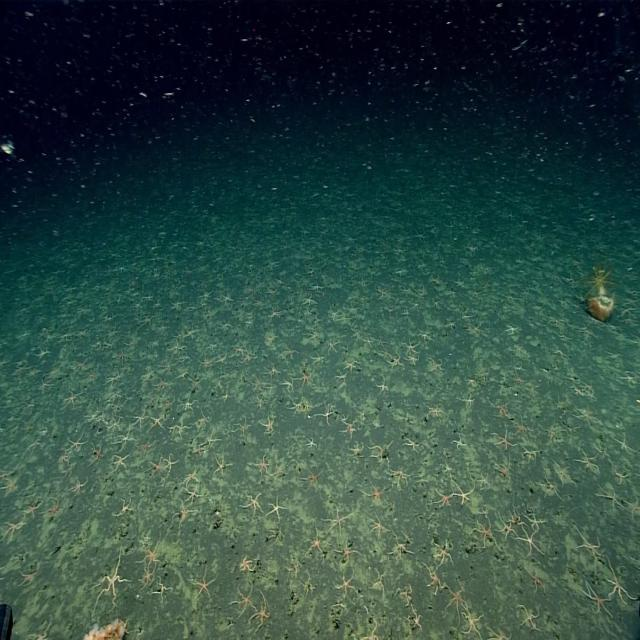brittle-stars: (97, 550, 126, 604), (608, 558, 630, 604), (445, 578, 467, 622), (250, 591, 272, 632), (576, 528, 602, 562), (324, 506, 351, 536), (584, 583, 610, 614), (139, 537, 164, 568), (192, 567, 216, 599), (518, 527, 542, 559), (473, 516, 496, 548), (306, 524, 327, 557), (232, 587, 255, 617), (364, 481, 387, 508), (462, 608, 484, 636), (424, 562, 443, 594), (334, 571, 358, 596), (241, 492, 263, 518), (524, 506, 546, 532), (600, 486, 622, 512), (368, 442, 390, 467), (336, 540, 360, 562), (3, 517, 23, 543), (519, 605, 539, 631), (390, 532, 410, 558), (370, 512, 388, 539), (499, 510, 515, 540), (492, 426, 512, 450), (390, 465, 410, 489), (434, 540, 452, 566), (113, 427, 135, 448), (302, 468, 324, 489), (174, 503, 194, 526), (454, 482, 474, 505), (526, 569, 546, 592), (541, 476, 561, 499), (553, 461, 572, 484), (22, 498, 42, 519), (577, 448, 596, 470), (214, 451, 230, 477), (154, 576, 172, 599), (253, 453, 270, 477), (141, 562, 155, 591), (342, 414, 358, 439), (2, 474, 20, 496), (617, 436, 635, 458), (318, 402, 334, 426), (62, 390, 81, 410), (434, 489, 453, 509), (68, 433, 87, 452), (425, 404, 444, 423), (111, 453, 129, 473), (490, 401, 510, 419), (248, 374, 266, 394), (239, 552, 255, 574), (70, 476, 88, 495), (148, 414, 167, 432), (402, 436, 421, 454), (132, 409, 149, 429), (578, 405, 594, 426), (195, 410, 210, 432), (183, 485, 202, 502), (260, 413, 276, 433), (384, 353, 404, 369), (544, 426, 560, 446), (234, 418, 250, 438), (268, 499, 283, 520), (149, 459, 166, 477), (162, 453, 178, 472), (138, 436, 154, 455), (401, 338, 420, 354), (514, 418, 529, 438), (117, 498, 132, 518), (521, 446, 539, 462), (287, 396, 303, 414), (282, 343, 298, 361), (90, 444, 104, 464), (199, 352, 213, 372), (170, 420, 187, 436), (298, 371, 314, 388), (348, 441, 364, 458), (272, 462, 287, 480), (184, 323, 198, 342), (206, 431, 219, 451), (183, 470, 199, 486), (300, 292, 316, 308), (160, 359, 175, 375), (108, 417, 122, 434), (182, 396, 196, 413), (310, 350, 324, 367), (169, 295, 183, 312), (48, 497, 61, 515), (263, 330, 276, 348), (303, 436, 318, 451), (504, 323, 520, 337), (152, 376, 166, 392), (512, 342, 526, 357), (38, 378, 52, 393), (326, 336, 339, 352), (328, 304, 340, 321), (344, 359, 358, 373), (462, 394, 475, 409), (581, 380, 594, 395), (282, 377, 294, 393), (408, 352, 420, 368), (243, 350, 255, 366), (514, 373, 525, 388), (193, 442, 204, 456), (233, 344, 244, 358), (553, 348, 565, 360), (410, 300, 420, 312)
